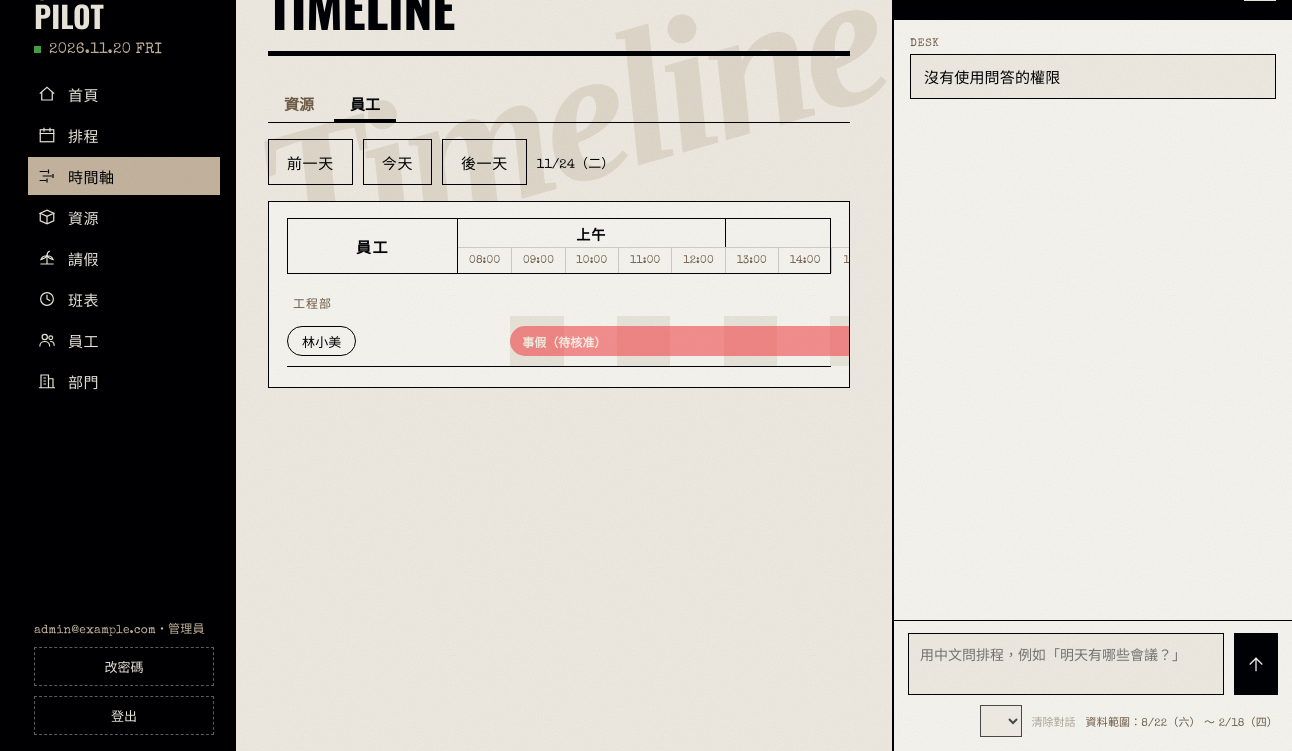
testLeaveBlockWithLinkOpensRequest
Click the button "事假（待核准）": coordinates (564, 341) [510, 326, 990, 356]
(page scrolled)
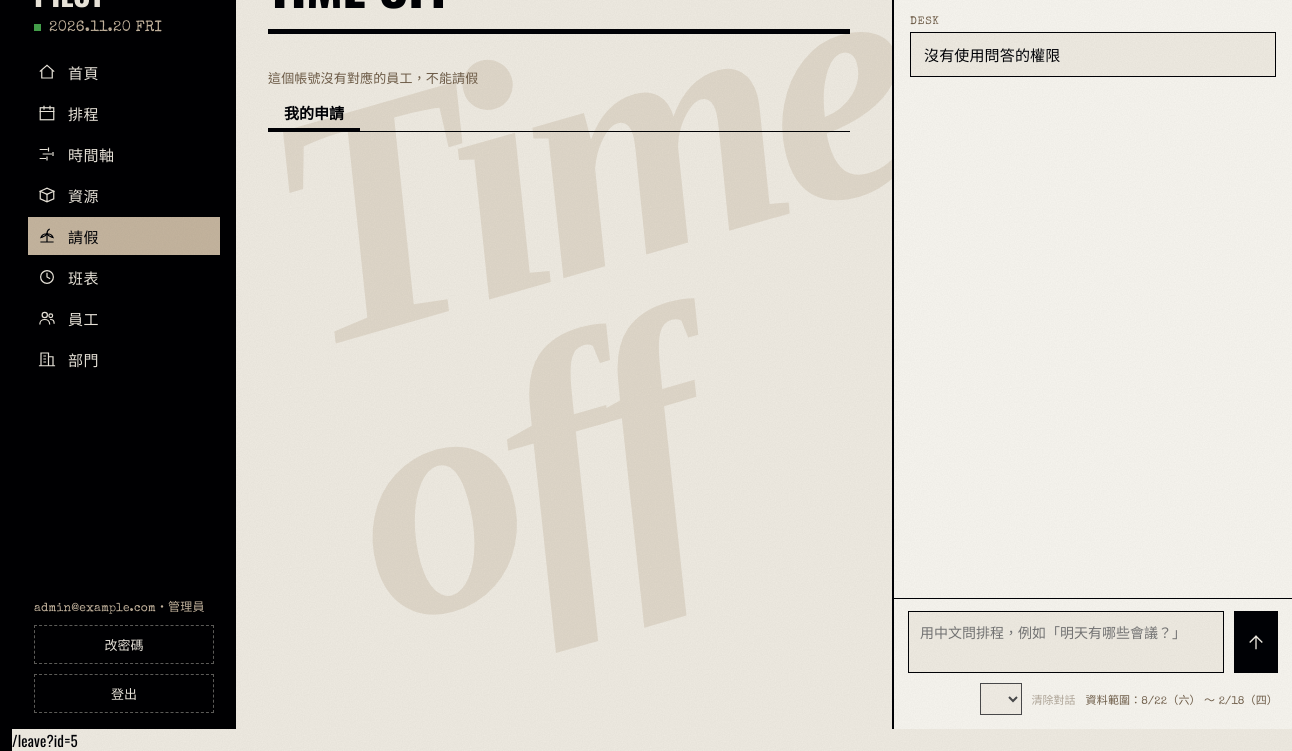
Result: the text with test id "location" reads "/leave?id=5" at [12, 729, 78, 750]
